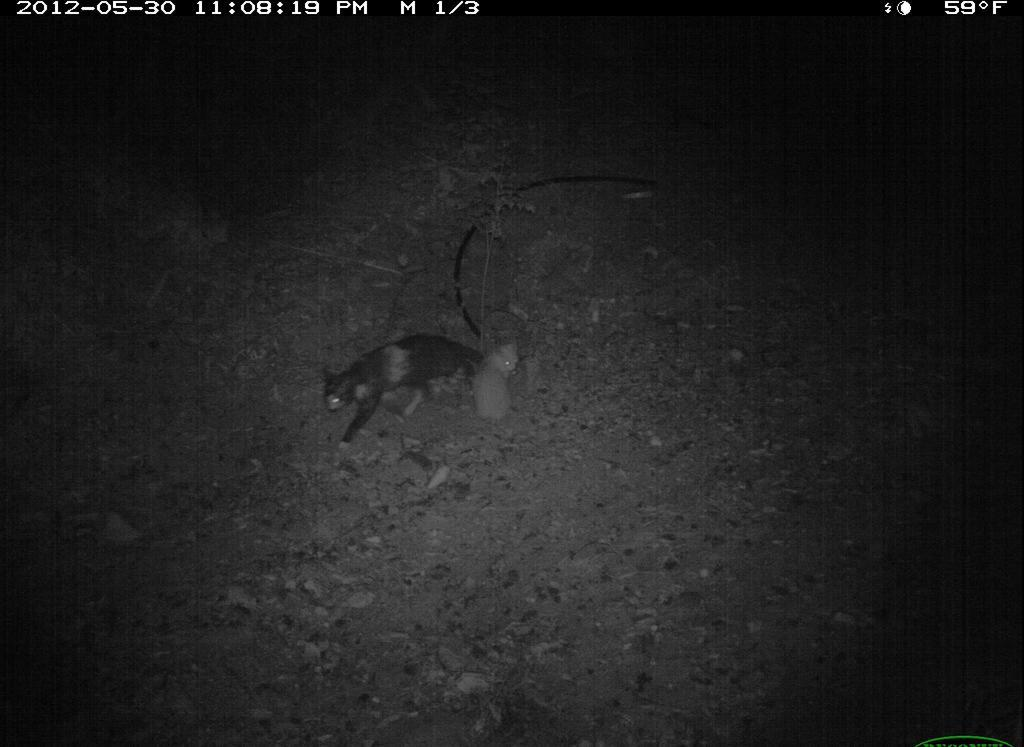cat: (322, 328, 488, 454), (470, 331, 524, 423)
